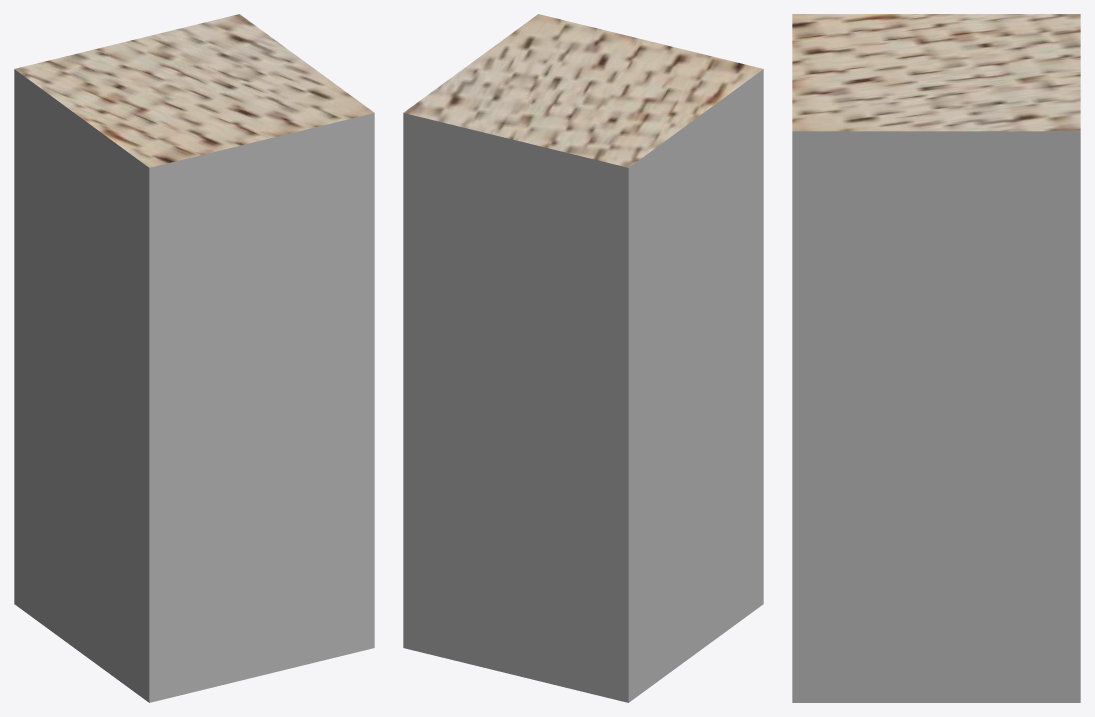
Rendered from wood.dae.
3 renders of one model, left to right at view 1: azimuth 30°, elevation 25°; view 2: azimuth 150°, elevation 25°; view 3: azimuth 270°, elevation 25°, orthographic. The views are drawn at different scales.
Visible parts, largest first — view 1: group_0 (×2); view 2: group_0 (×2); view 3: group_0 (×2).
Part boxes in pixels (left/top/right/bottom): group_0 (×2): left=14, top=14, right=374, bottom=702; group_0 (×2): left=403, top=14, right=763, bottom=702; group_0 (×2): left=792, top=14, right=1080, bottom=702.
Size of the model in its own units: 10.24 by 10.63 by 23.23.
